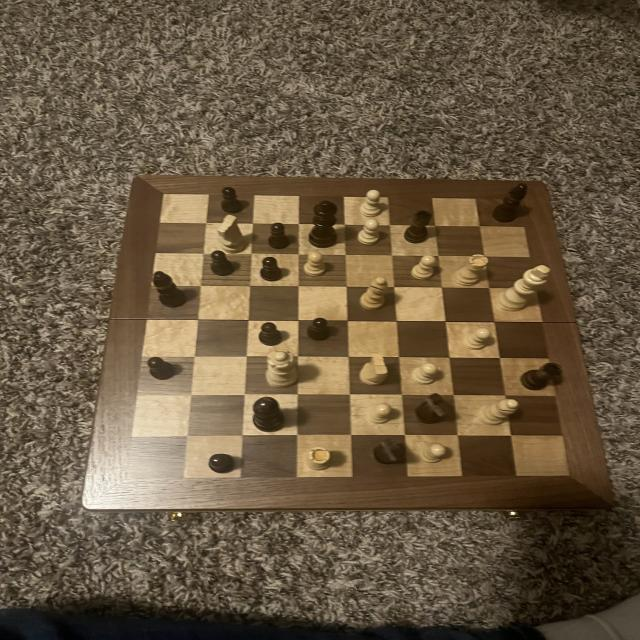bishop: (490, 181, 531, 224), (151, 269, 190, 310)
black-bishop: (249, 393, 288, 434)
black-king: (412, 392, 454, 425), (369, 436, 409, 467)
black-knight: (144, 354, 180, 382), (266, 220, 295, 253), (219, 185, 247, 215), (258, 256, 288, 284), (257, 320, 286, 348), (209, 248, 236, 278), (206, 450, 238, 474), (306, 315, 331, 344)
black-pawn: (307, 200, 340, 250)
black-queen: (516, 360, 568, 392), (401, 208, 435, 246)
black-rook: (475, 397, 523, 429), (358, 276, 393, 313)
white-bishop: (495, 263, 556, 316)
white-king: (214, 212, 248, 254), (358, 354, 394, 388)
white-knight: (360, 400, 398, 427), (460, 326, 496, 353), (354, 187, 386, 216), (415, 441, 450, 467), (354, 219, 386, 247), (410, 361, 444, 387), (410, 253, 440, 281), (301, 251, 330, 277)
white-pawn: (260, 348, 304, 390)
white-queen: (449, 253, 491, 289), (303, 447, 334, 472)
